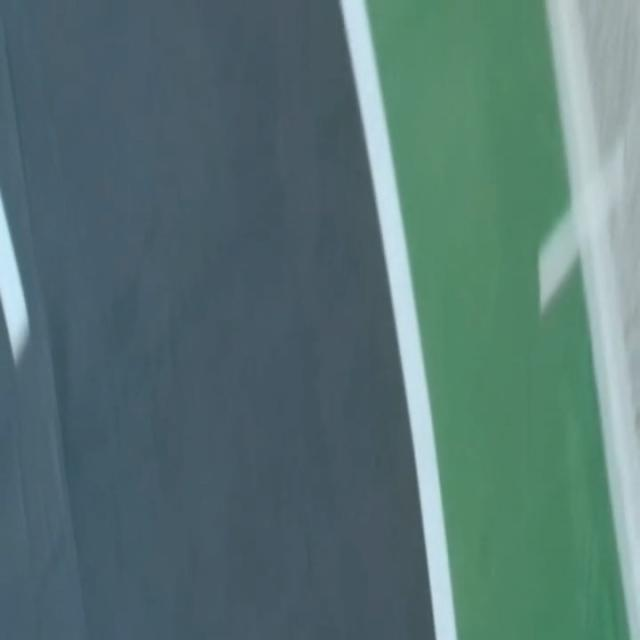center: (0, 193, 28, 363)
right: (340, 0, 456, 639)
